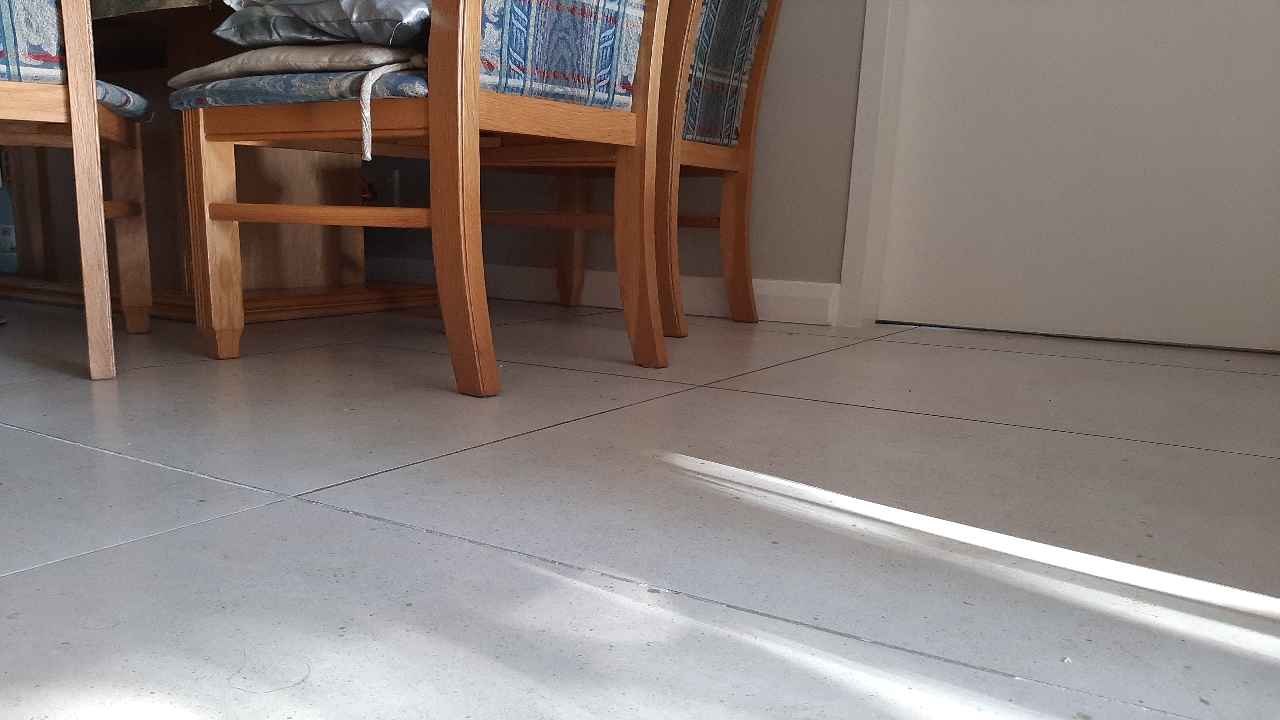chair: (47, 239, 767, 408)
